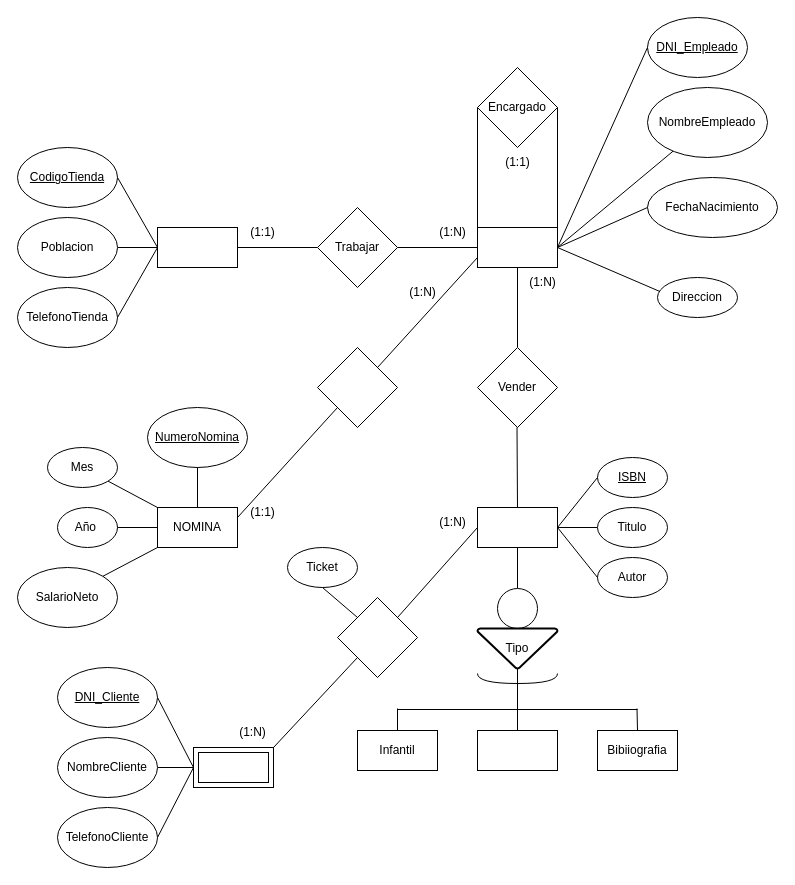
This 795x885 diagram has some shape labels left out. The shapes that lost their labels are listed below. From the top down, each one's centre as x and y in pixels, then its label:
At [197,247]: "TIENDA".
At [517,247]: "EMPLEADO".
At [357,387]: "Tener".
At [517,527]: "LIBRO".
At [377,637]: "Comprar".
At [233,767]: "Cliente".
At [517,750]: "Historia".
